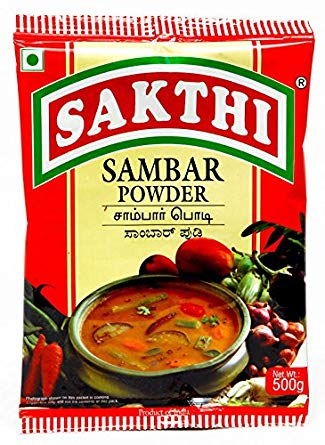VEG: (18, 46, 46, 75)
